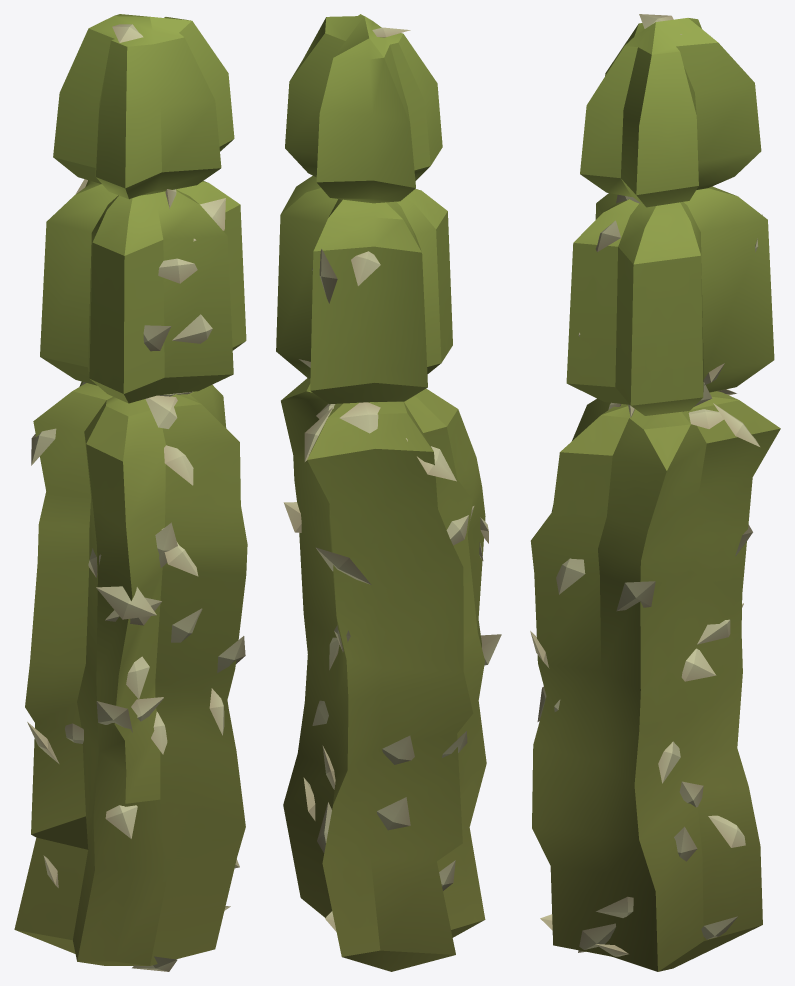
File: Cactus3.fbx
3 renders of one model, left to right at view 1: azimuth 30°, elevation 25°; view 2: azimuth 150°, elevation 25°; view 3: azimuth 270°, elevation 25°, orthographic. The views are drawn at different scales.
Parts seen in each view (by area): view 1: Cactus3; view 2: Cactus3; view 3: Cactus3.
Boxes of the visible parts, bbox=[...] form: Cactus3: bbox=[14, 14, 247, 971]; Cactus3: bbox=[276, 14, 501, 971]; Cactus3: bbox=[530, 14, 780, 971].
Bounding box in the file's own units: 90.33 × 406 × 95.67.
